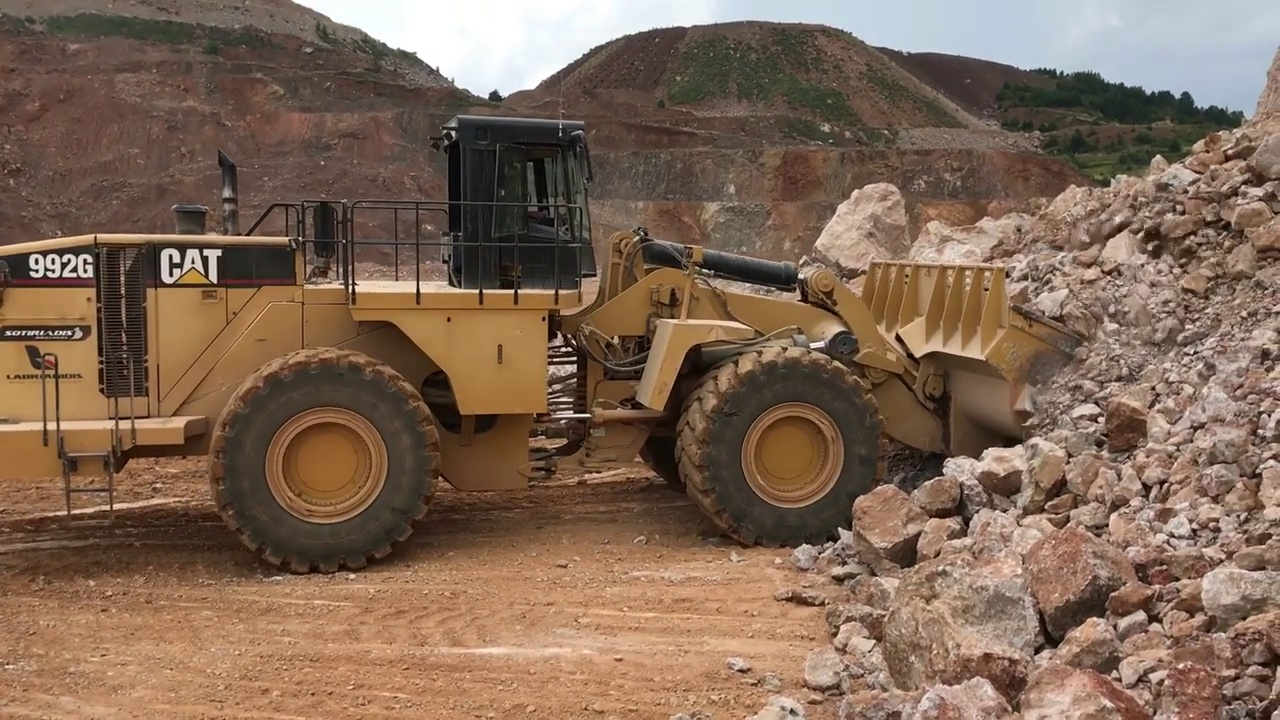wheel loader: (5, 111, 1087, 571)
